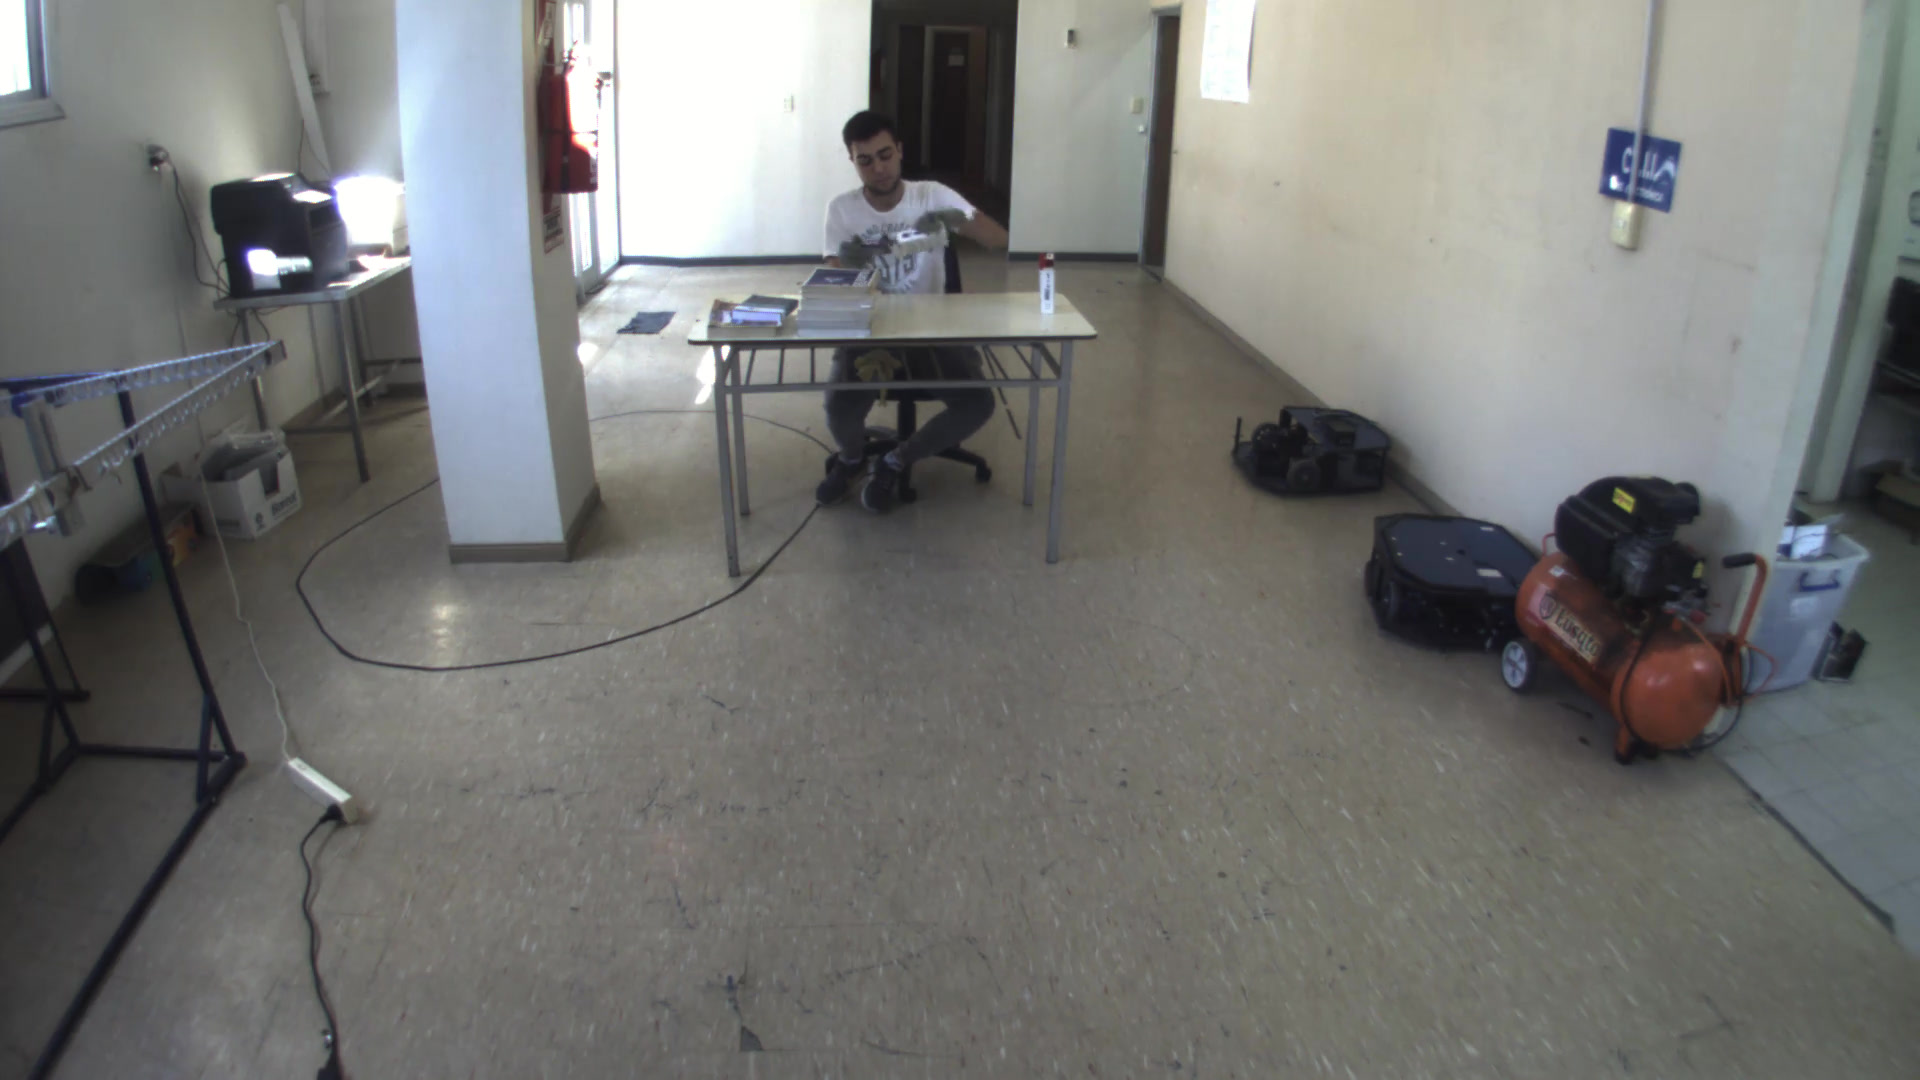hand: (827, 225, 899, 276), (906, 204, 967, 239)
